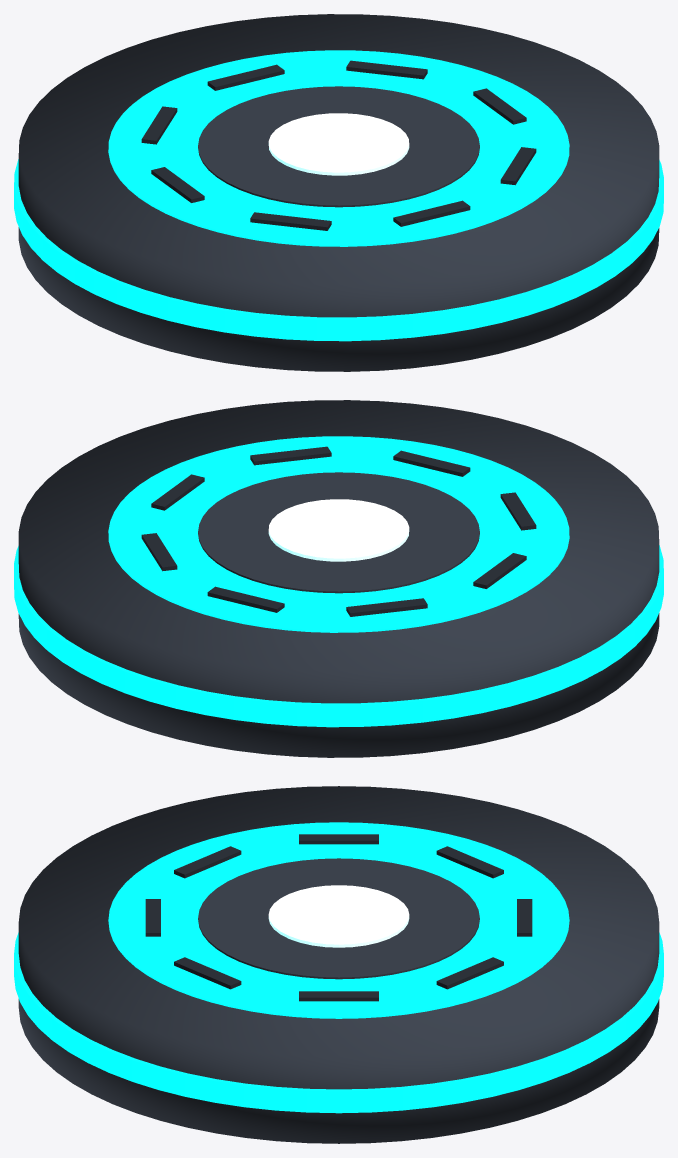
The model's file is disco_cyber.glb.
3 views of the same model, one above another, from view 1: azimuth 30°, elevation 25°; view 2: azimuth 150°, elevation 25°; view 3: azimuth 270°, elevation 25° (orthographic).
Visible parts, largest first — view 1: PuckChassis, PuckBottomNeonRing, PuckCoreRim, PuckEquatorGlow, PuckCentralNode, PuckFin_1_1, PuckFin_1_5, PuckFin_1_2, PuckFin_1_6, PuckFin_1_0, PuckFin_1_4, PuckFin_1_3 (+1 smaller); view 2: PuckChassis, PuckBottomNeonRing, PuckCoreRim, PuckEquatorGlow, PuckCentralNode, PuckFin_1_7, PuckFin_1_3, PuckFin_1_2, PuckFin_1_6, PuckFin_1_0, PuckFin_1_4, PuckFin_1_5 (+1 smaller); view 3: PuckChassis, PuckBottomNeonRing, PuckCoreRim, PuckEquatorGlow, PuckCentralNode, PuckFin_1_0, PuckFin_1_4, PuckFin_1_1, PuckFin_1_7, PuckFin_1_3, PuckFin_1_5, PuckFin_1_2 (+1 smaller).
Part boxes in pixels (bbox=[...]): PuckChassis: bbox=[18, 14, 659, 371]; PuckBottomNeonRing: bbox=[108, 50, 569, 246]; PuckCoreRim: bbox=[198, 86, 479, 207]; PuckEquatorGlow: bbox=[14, 159, 663, 341]; PuckCentralNode: bbox=[268, 113, 409, 175]; PuckFin_1_1: bbox=[346, 60, 427, 79]; PuckFin_1_5: bbox=[250, 212, 331, 230]; PuckFin_1_2: bbox=[207, 64, 284, 90]; PuckFin_1_6: bbox=[393, 200, 470, 226]; PuckFin_1_0: bbox=[473, 88, 526, 124]; PuckFin_1_4: bbox=[151, 167, 204, 202]; PuckFin_1_3: bbox=[141, 106, 177, 144]; PuckChassis: bbox=[18, 400, 659, 757]; PuckBottomNeonRing: bbox=[108, 436, 569, 632]; PuckCoreRim: bbox=[198, 472, 479, 593]; PuckEquatorGlow: bbox=[14, 545, 663, 727]; PuckCentralNode: bbox=[268, 499, 409, 561]; PuckFin_1_7: bbox=[250, 446, 331, 465]; PuckFin_1_3: bbox=[346, 598, 427, 616]; PuckFin_1_2: bbox=[207, 586, 284, 612]; PuckFin_1_6: bbox=[393, 450, 470, 476]; PuckFin_1_0: bbox=[151, 474, 204, 510]; PuckFin_1_4: bbox=[473, 553, 526, 588]; PuckFin_1_5: bbox=[500, 492, 536, 530]; PuckChassis: bbox=[18, 786, 659, 1143]; PuckBottomNeonRing: bbox=[108, 822, 569, 1018]; PuckCoreRim: bbox=[198, 858, 479, 979]; PuckEquatorGlow: bbox=[14, 932, 663, 1113]; PuckCentralNode: bbox=[268, 885, 409, 947]; PuckFin_1_0: bbox=[299, 991, 378, 1001]; PuckFin_1_4: bbox=[299, 834, 378, 844]; PuckFin_1_1: bbox=[436, 957, 503, 989]; PuckFin_1_7: bbox=[174, 957, 241, 989]; PuckFin_1_3: bbox=[436, 846, 503, 878]; PuckFin_1_5: bbox=[174, 846, 241, 878]; PuckFin_1_2: bbox=[517, 899, 532, 936].
Size of the model in its own units: 0.1015 by 0.0172 by 0.1015.
